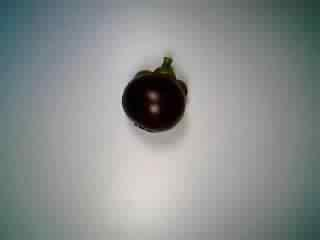mangosteen: (116, 54, 195, 132)
